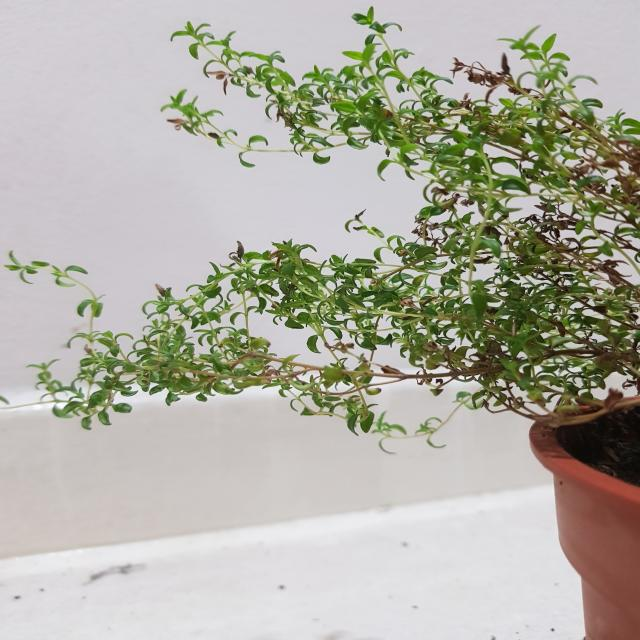Thyme: (14, 21, 640, 441)
